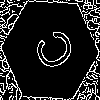C: (25, 25, 77, 79)
